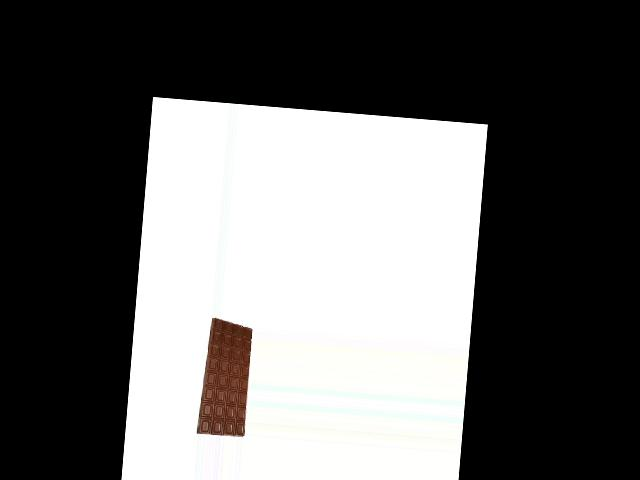chocolate: (198, 315, 253, 438)
